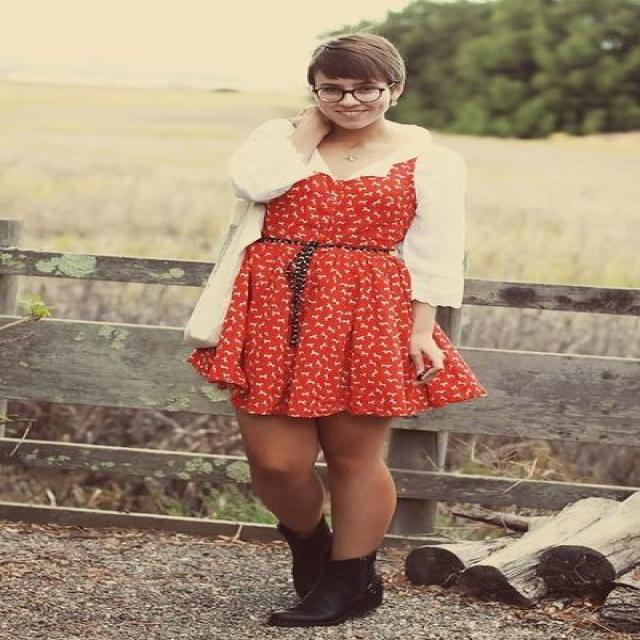dress: (187, 147, 478, 417)
jacket: (172, 120, 466, 344)
shoe: (259, 534, 392, 630)
